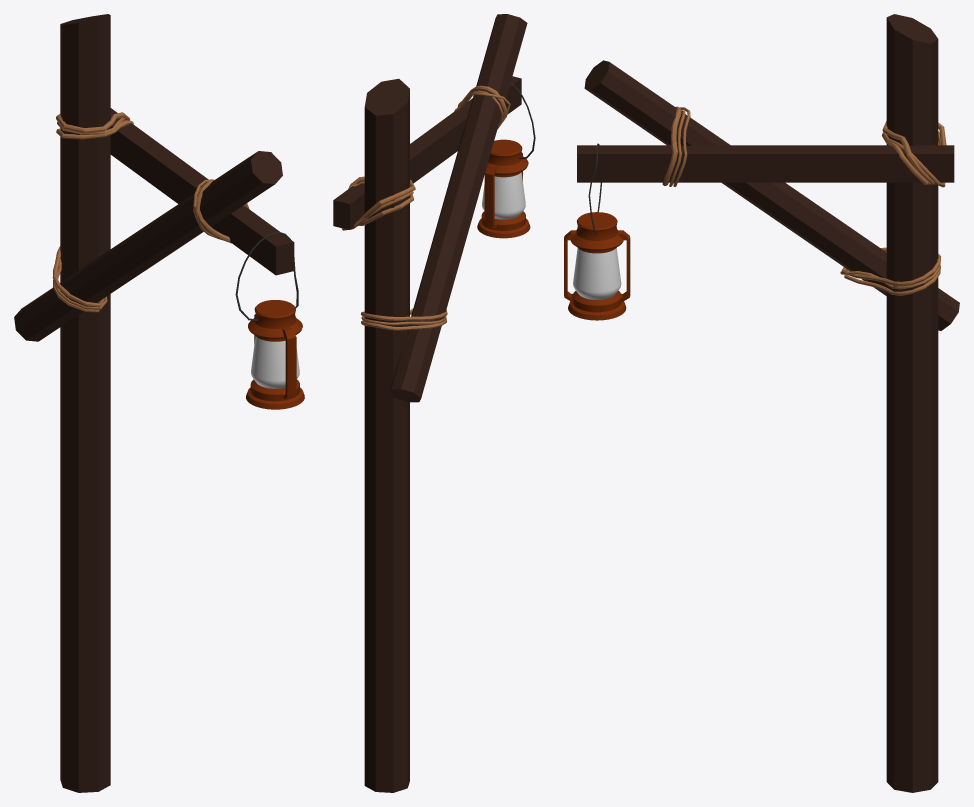
Rendered from Wooden_Light_Post.fbx.
3 renders of one model, left to right at view 1: azimuth 30°, elevation 25°; view 2: azimuth 150°, elevation 25°; view 3: azimuth 270°, elevation 25°, orthographic. The views are drawn at different scales.
Visible parts, largest first — view 1: Wooden_Light_Post; view 2: Wooden_Light_Post; view 3: Wooden_Light_Post.
Part boxes in pixels (left/top/right/bottom): Wooden_Light_Post: left=14, top=14, right=304, bottom=792; Wooden_Light_Post: left=333, top=14, right=535, bottom=792; Wooden_Light_Post: left=564, top=14, right=959, bottom=792.
Size of the model in its own units: 54.29 by 367 by 172.
